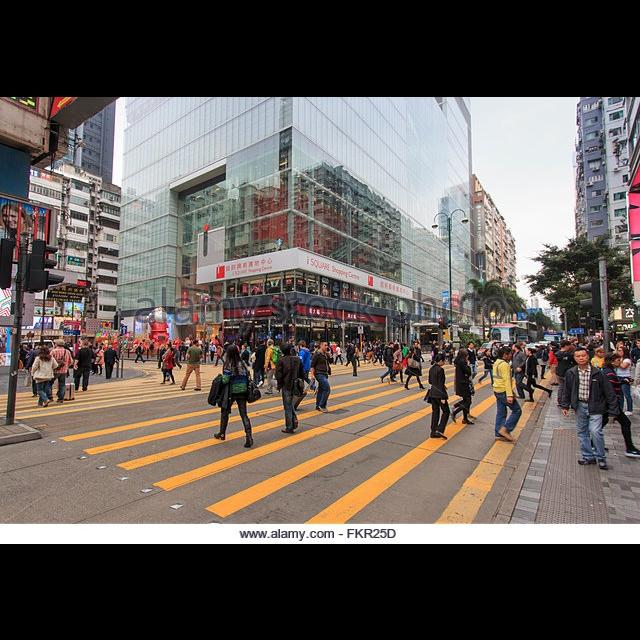head: (573, 346, 591, 366), (606, 352, 622, 368), (500, 347, 514, 361), (280, 342, 292, 354), (228, 346, 240, 358), (618, 347, 630, 358), (461, 350, 472, 362), (458, 350, 469, 362), (437, 354, 448, 366), (596, 347, 604, 358), (320, 341, 328, 352), (562, 342, 570, 351), (526, 348, 534, 357), (300, 342, 308, 351), (56, 339, 64, 348), (550, 340, 558, 348), (512, 343, 520, 351), (485, 348, 493, 356), (468, 341, 476, 349), (412, 347, 420, 355), (396, 342, 404, 350), (267, 338, 275, 346), (192, 339, 200, 347), (166, 342, 174, 350), (80, 340, 88, 348), (41, 346, 49, 354), (35, 342, 43, 350), (260, 338, 268, 346), (389, 342, 395, 348), (242, 344, 248, 350), (167, 347, 173, 353), (543, 344, 549, 348), (414, 343, 418, 349), (348, 341, 352, 345), (355, 344, 359, 348), (338, 344, 342, 348), (220, 344, 224, 348), (161, 345, 165, 349), (140, 342, 144, 346), (110, 346, 114, 350), (100, 346, 104, 350), (21, 346, 25, 350), (173, 344, 177, 348), (404, 342, 408, 346), (182, 341, 186, 345)
person: (560, 344, 620, 472), (205, 344, 262, 448), (492, 344, 524, 442), (274, 342, 308, 434), (422, 352, 452, 441), (448, 348, 479, 420), (308, 338, 336, 414), (451, 349, 477, 425), (31, 344, 61, 408), (522, 346, 554, 402), (612, 344, 636, 416), (554, 338, 578, 409), (48, 340, 74, 404), (179, 338, 205, 392), (294, 339, 318, 396), (590, 345, 610, 413), (512, 342, 536, 398), (24, 341, 48, 397), (74, 338, 95, 392), (262, 338, 282, 394), (404, 345, 428, 391), (386, 342, 408, 386), (250, 336, 268, 388), (379, 341, 399, 383), (158, 346, 178, 386), (478, 347, 498, 385), (464, 339, 480, 385), (545, 341, 561, 385), (534, 344, 550, 381), (104, 344, 120, 381), (162, 342, 176, 382), (410, 341, 424, 375), (240, 341, 252, 377), (95, 344, 107, 376), (156, 342, 168, 370), (401, 341, 412, 371), (172, 343, 184, 369), (333, 342, 345, 366), (214, 343, 226, 367), (345, 339, 355, 367), (19, 342, 29, 370), (135, 341, 147, 364), (353, 342, 362, 366), (178, 340, 186, 362)
